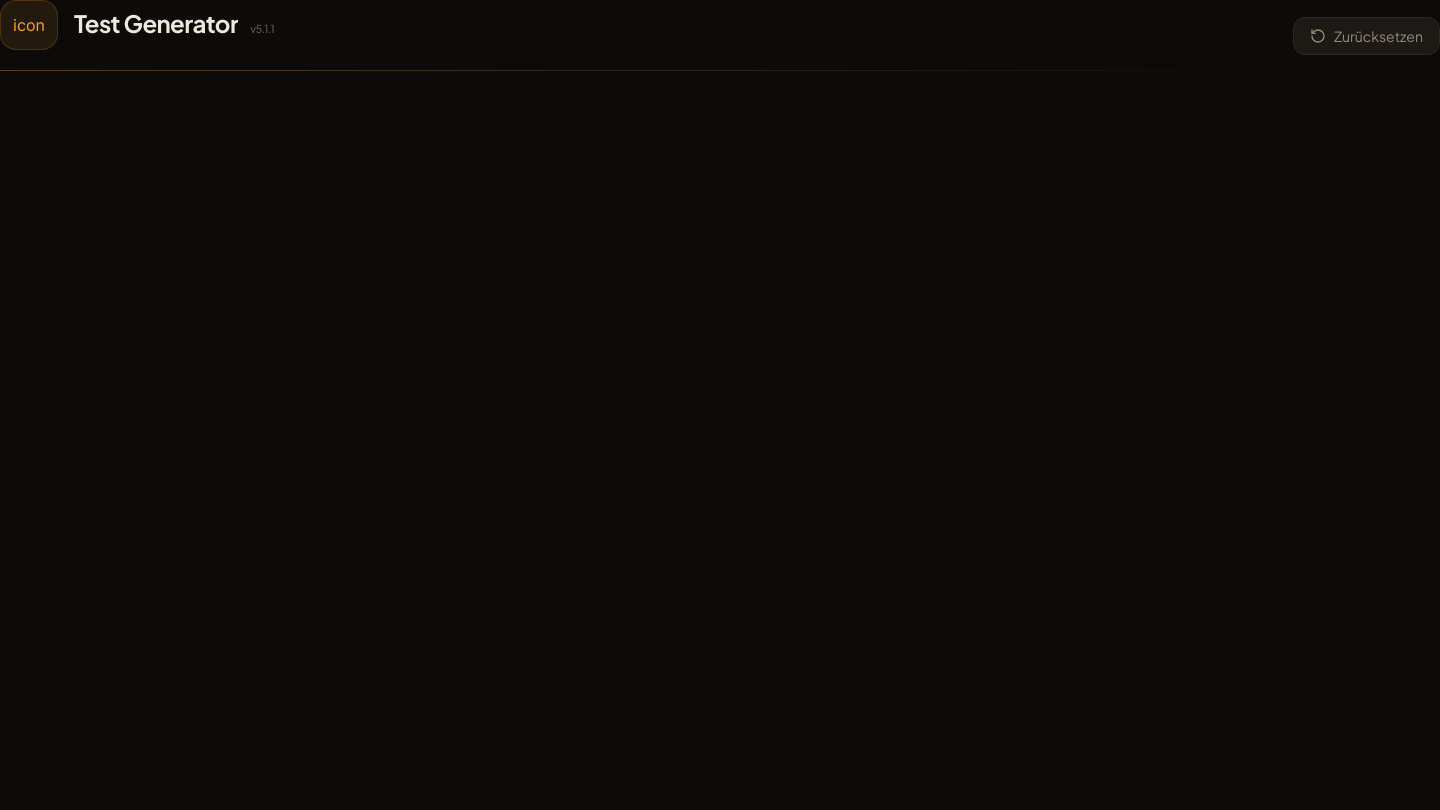
Test case: GeneratorHeader (Aktionsleiste, Compile-Trigger & Historie) › Compile-Trigger & Reset-Dialog › öffnet bei Klick auf "Zurücksetzen" den Bestätigungsdialog
This screenshot has width=1440, height=810.
Later steps or results of the test are not shown.
Step 1. Click the button "Zurücksetzen" → (1366, 36), box [1293,16,1439,54]
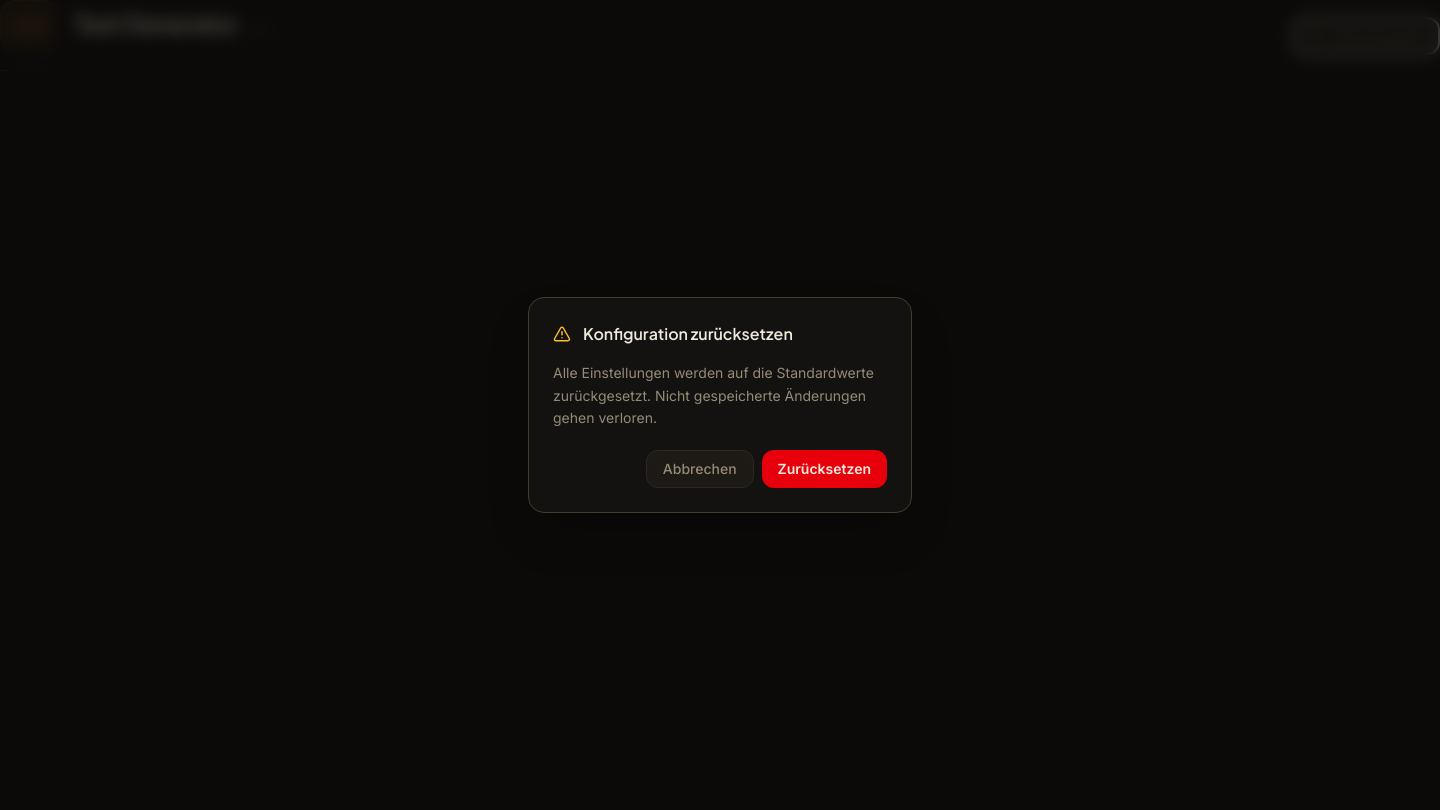
Result: the heading "Konfiguration zurücksetzen" is shown at [583,322,793,346]
Result: the text "Alle Einstellungen werden auf die Standardwerte zurückgesetzt" is shown at [553,364,874,426]
Result: the dialog "Konfiguration zurücksetzen" is shown at [528,297,912,513]
